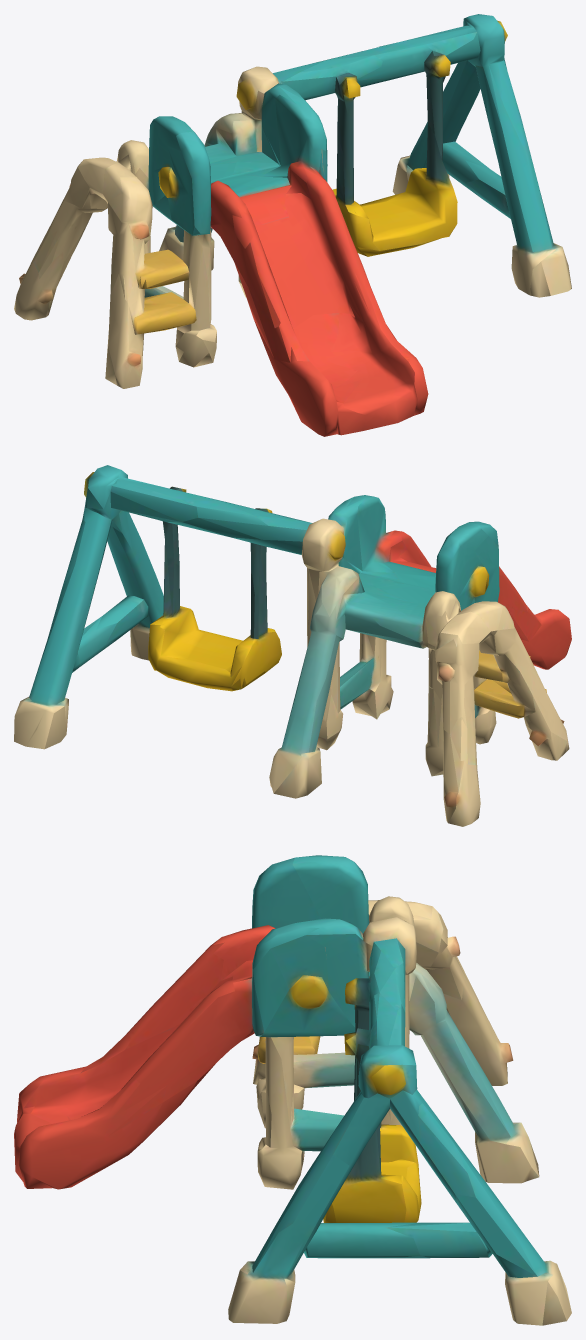
The model's file is city-playground.glb.
3 views of the same model, one above another, from view 1: azimuth 30°, elevation 25°; view 2: azimuth 150°, elevation 25°; view 3: azimuth 270°, elevation 25° (orthographic). The views are drawn at different scales.
Visible parts, largest first — view 1: city-playground; view 2: city-playground; view 3: city-playground.
Boxes of the visible parts, x1,y1,x2,y2 form: city-playground: (14, 14, 571, 436); city-playground: (14, 465, 571, 826); city-playground: (14, 855, 571, 1325).
Bounding box in the file's own units: 3 × 1.46 × 2.8.
1 material, 1 textured.
